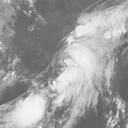cyclone: (52, 38, 101, 98)
